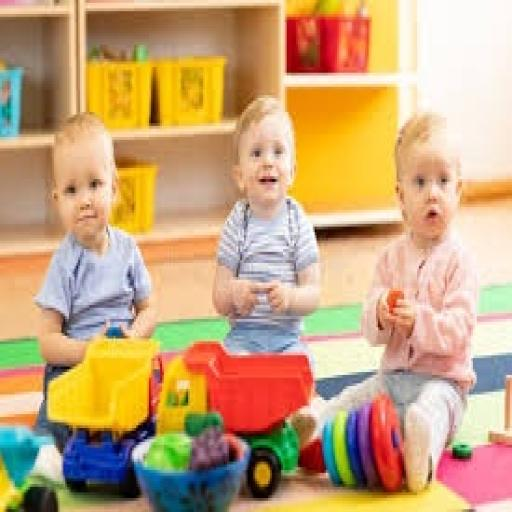baby: (297, 112, 478, 492), (36, 112, 156, 481), (213, 98, 320, 366)
